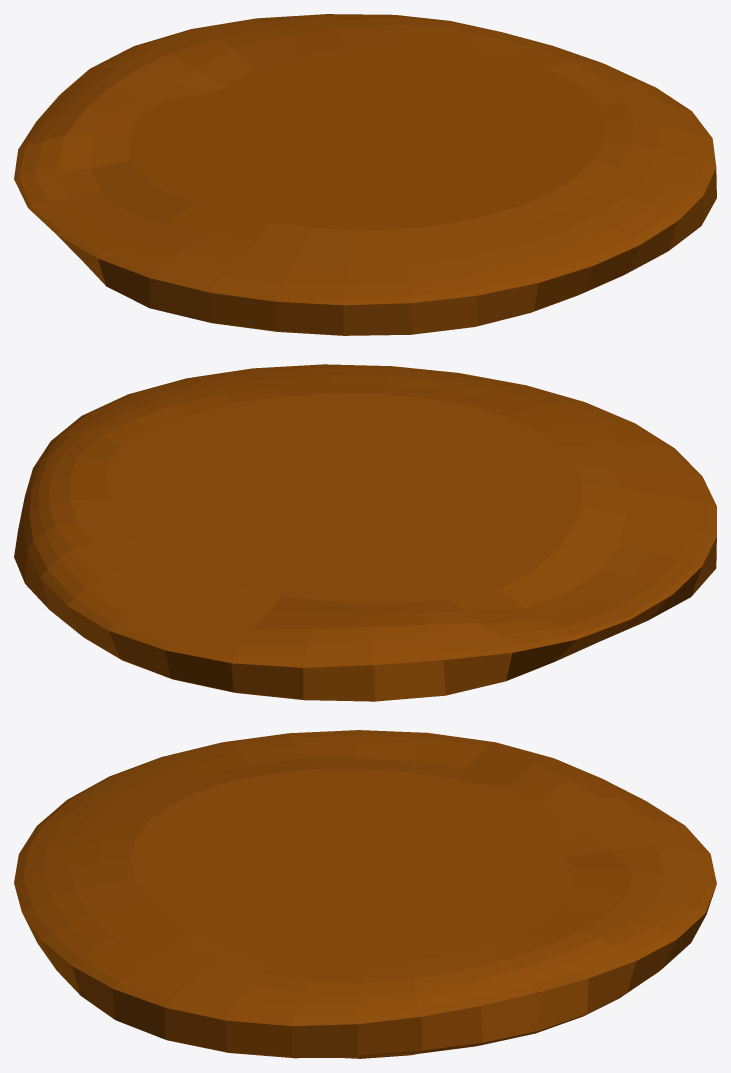
The model's file is hamburger köfte.fbx.
3 renders of one model, top to bottom at view 1: azimuth 30°, elevation 25°; view 2: azimuth 150°, elevation 25°; view 3: azimuth 270°, elevation 25°, orthographic. The views are drawn at different scales.
Parts seen in each view (by area): view 1: Cylinder; view 2: Cylinder; view 3: Cylinder.
Boxes of the visible parts, left/top/right/bottom form: Cylinder: left=14, top=14, right=716, bottom=335; Cylinder: left=14, top=364, right=716, bottom=701; Cylinder: left=14, top=730, right=716, bottom=1058.
Size of the model in its own units: 50 by 6 by 50.
